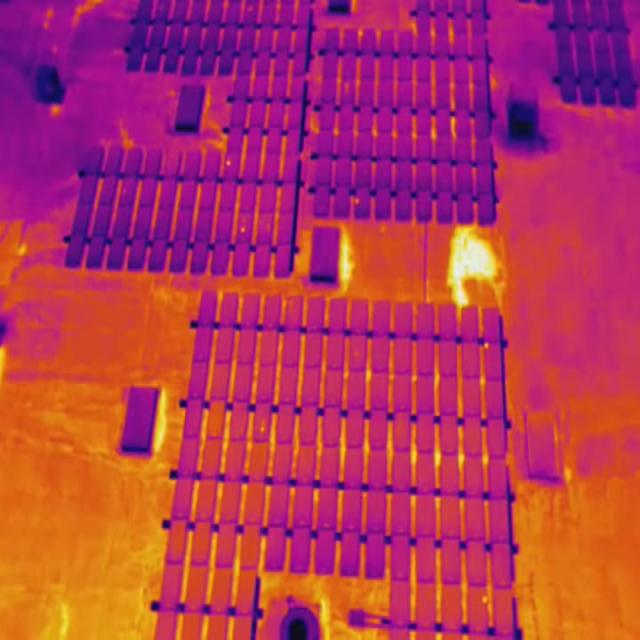Orange-Spots: (260, 420, 266, 432), (481, 595, 488, 604), (240, 226, 246, 233), (484, 342, 489, 349), (226, 160, 231, 167), (345, 83, 349, 90), (355, 198, 359, 204)
